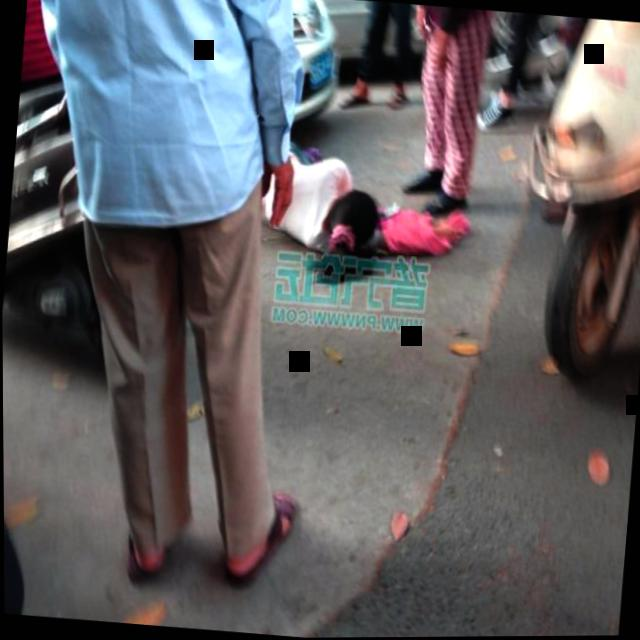Fall-Detected: (241, 112, 481, 279)
